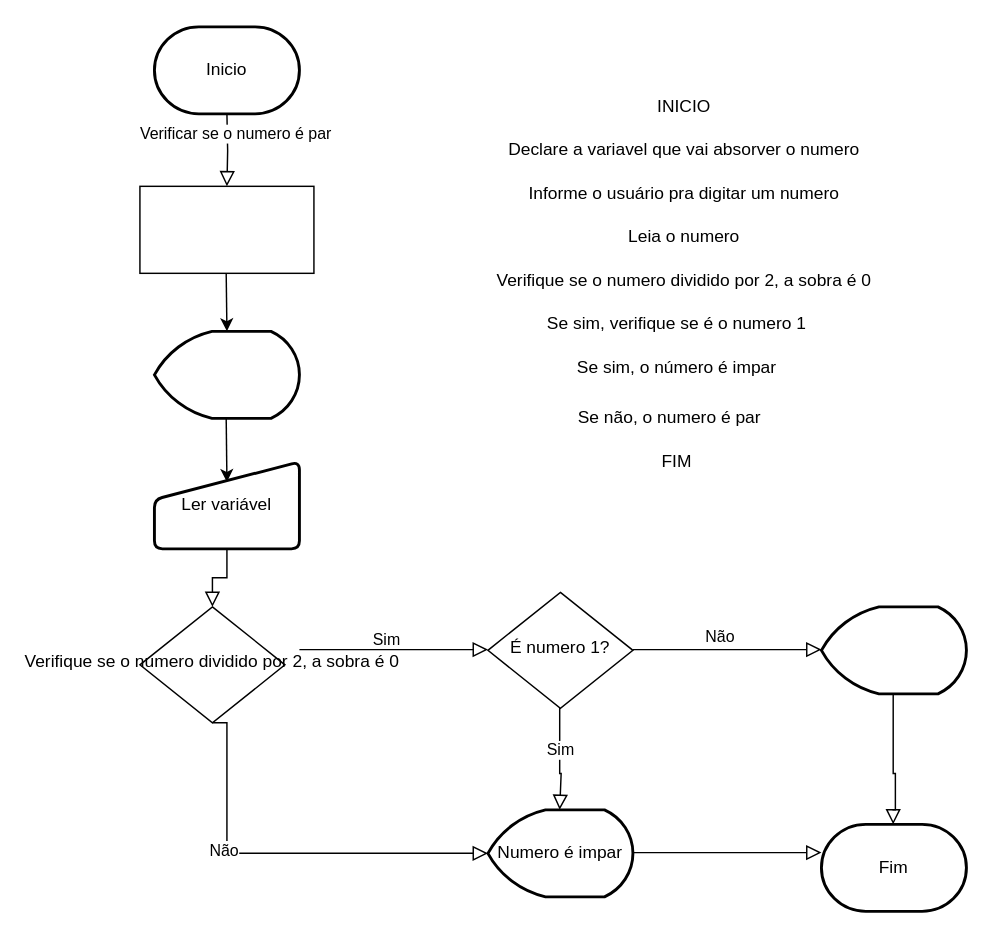
Some shapes in this 992 by 937 pixel diagram are drawn without their labels. Each missing label, with the centre of its shape:
Declarar variavel: pixel 226 229
Digite um numero: pixel 226 374
Numero é par: pixel 893 650
